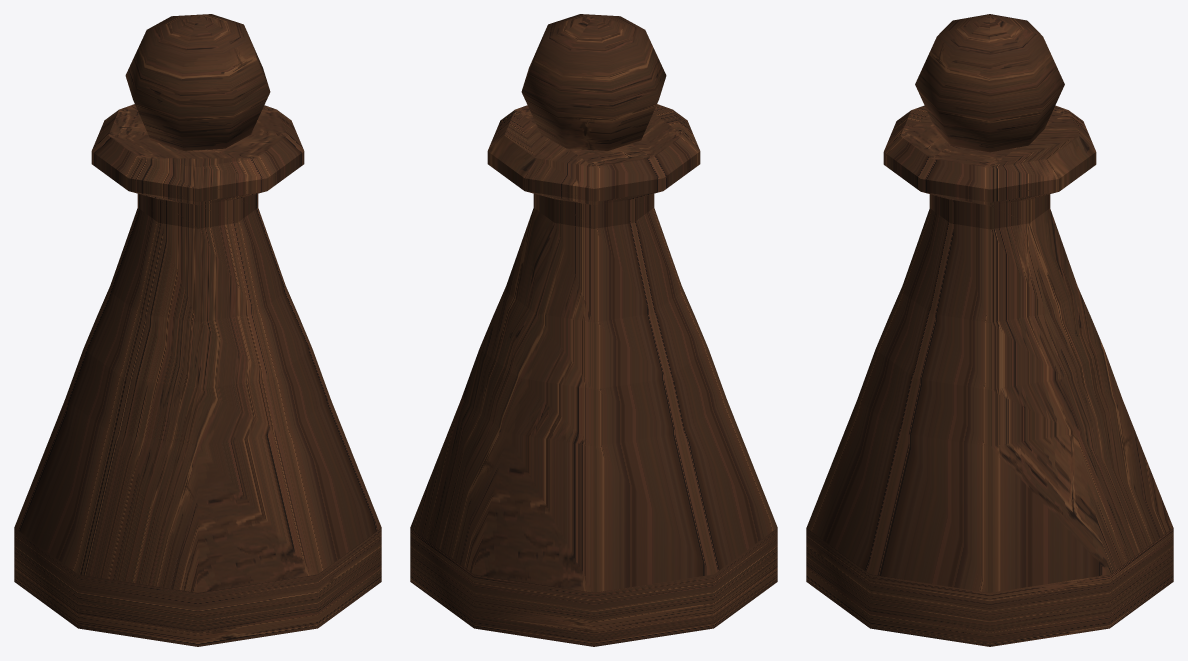
File: enemy_01_death-5.fbx
3 renders of one model, left to right at view 1: azimuth 30°, elevation 25°; view 2: azimuth 150°, elevation 25°; view 3: azimuth 270°, elevation 25°, orthographic.
Parts seen in each view (by area): view 1: Sphere_1; view 2: Sphere_1; view 3: Sphere_1.
Part boxes in pixels (left/top/right/bottom): Sphere_1: left=14, top=14, right=381, bottom=646; Sphere_1: left=410, top=14, right=777, bottom=646; Sphere_1: left=806, top=14, right=1173, bottom=646.
Bounding box in the file's own units: 96.98 × 163 × 98.48.
Materials: 1 (1 with a texture image).
